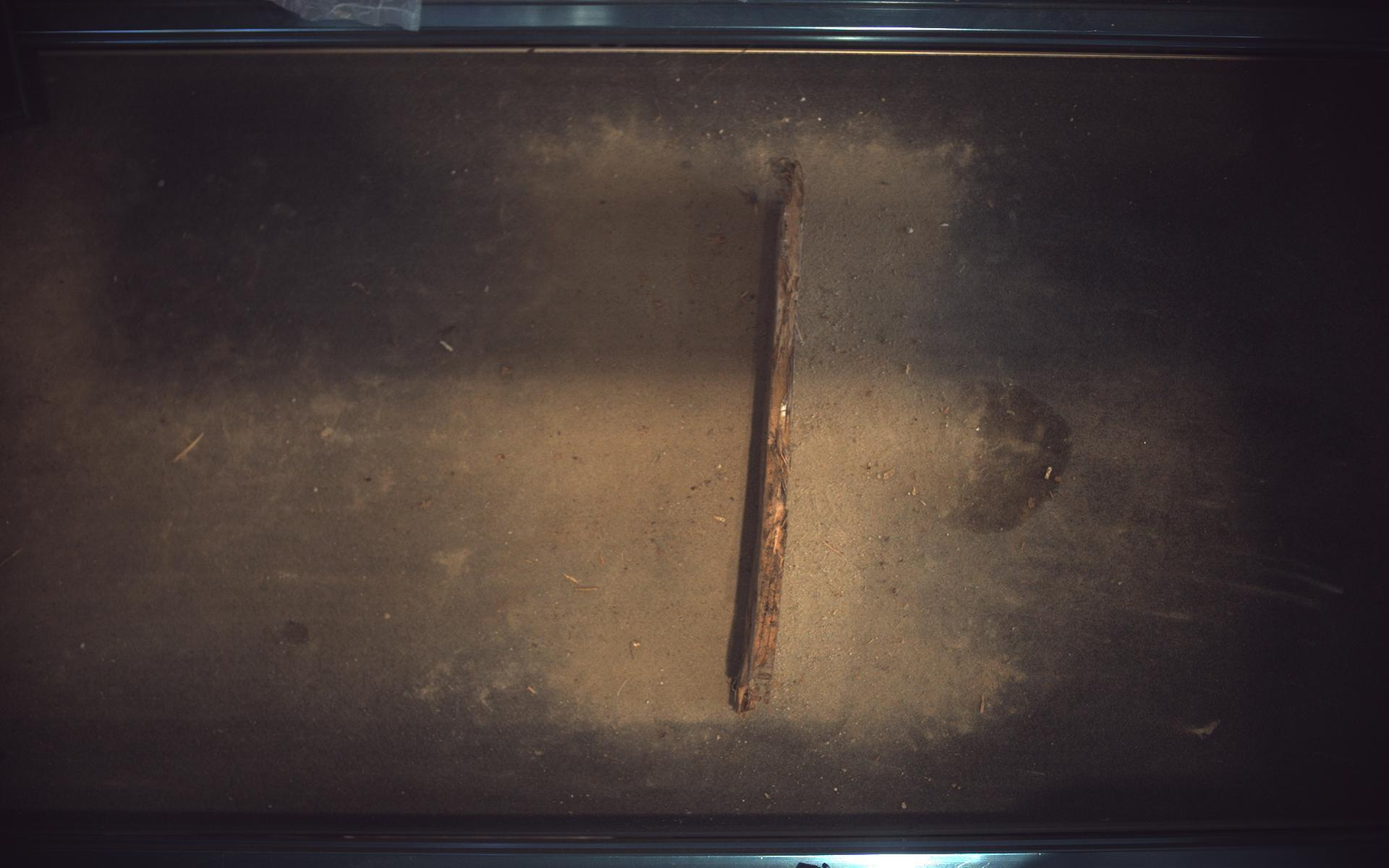wood: (736, 158, 805, 715)
